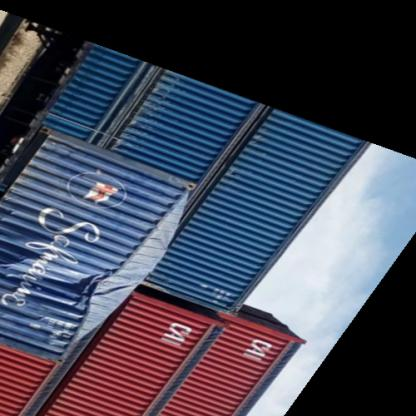Damage: (13, 181, 174, 379)
